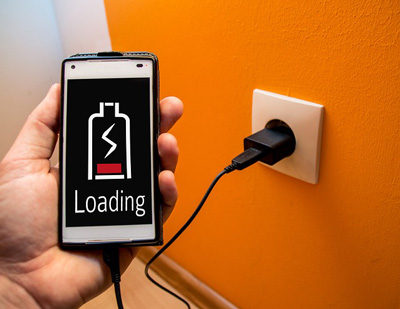Phone: (58, 49, 164, 247)
